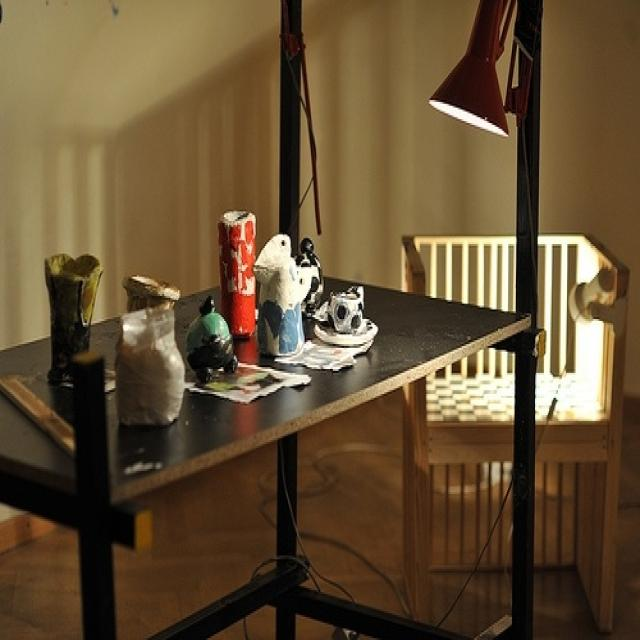Metal: (419, 20, 531, 156)
Plastics: (215, 197, 314, 362), (44, 258, 100, 338)
